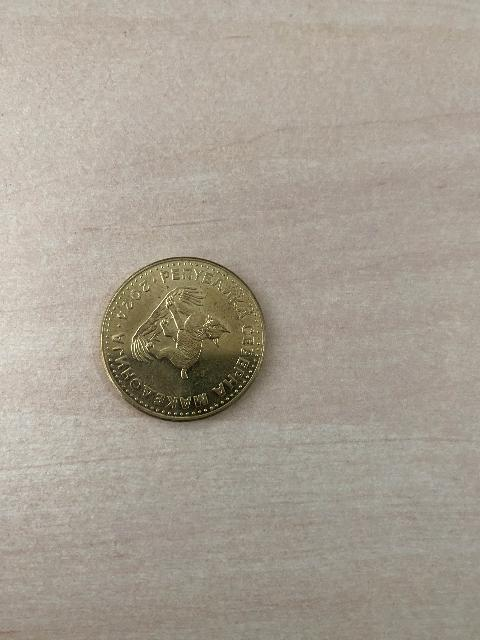5_coin: (101, 258, 265, 421)
